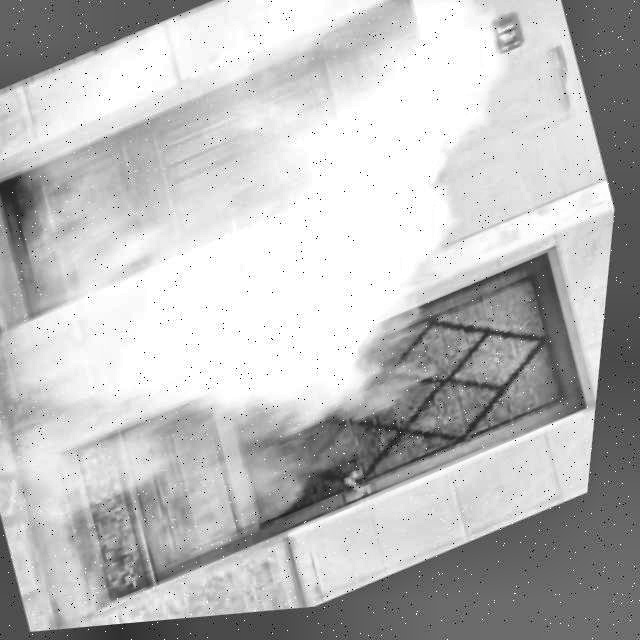Smoke: (0, 0, 601, 626)
